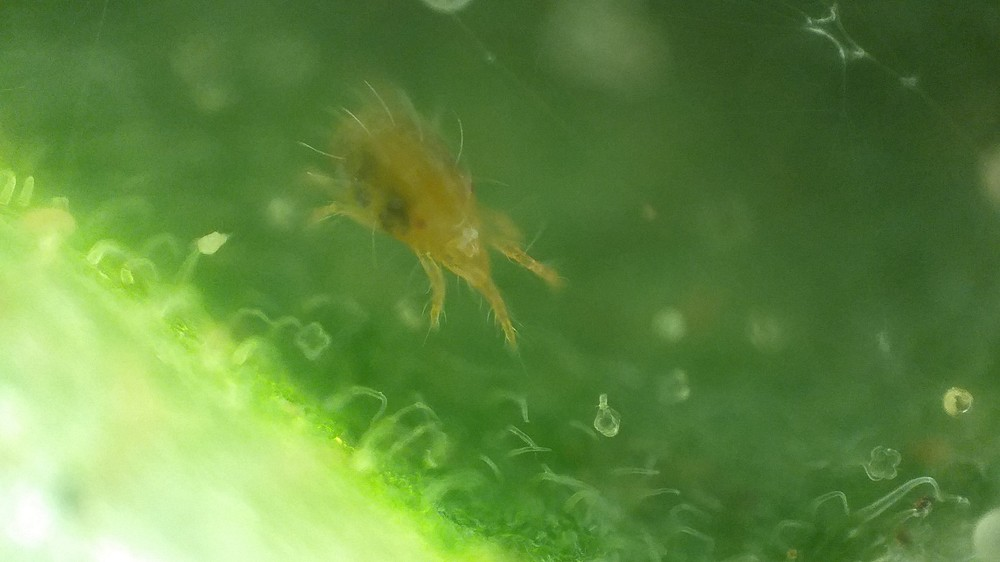Aracnido Rojo: (272, 74, 582, 385)
